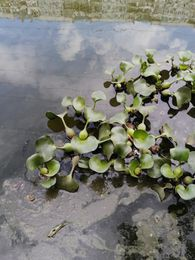water_hyacinth: (24, 50, 195, 201)
